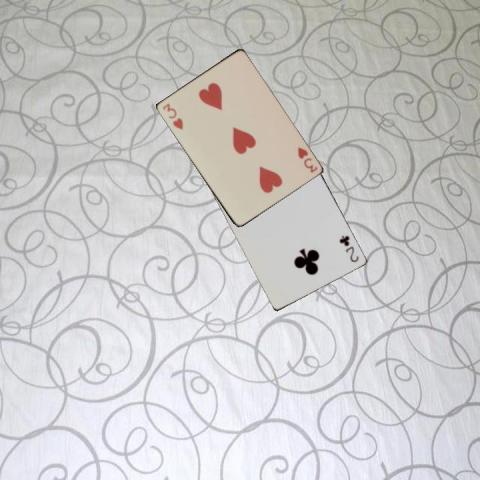2c: (336, 233, 360, 264)
3h: (159, 100, 184, 130), (294, 144, 318, 174)
